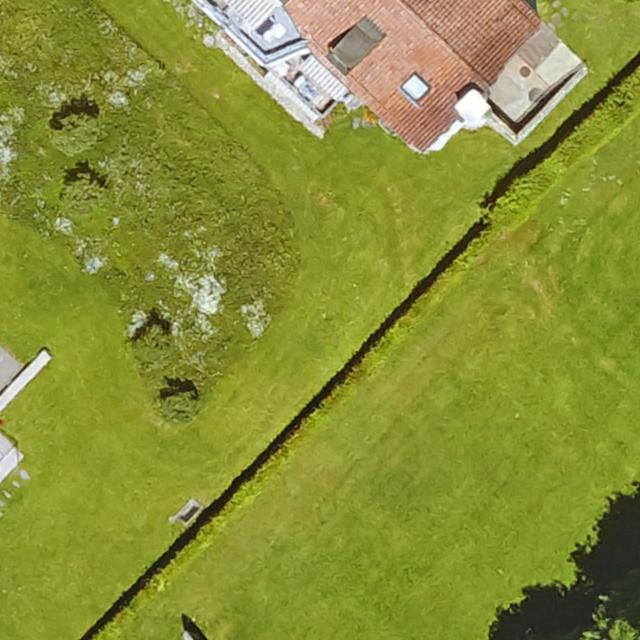tree: (591, 570, 640, 640), (59, 173, 113, 234), (55, 111, 102, 151), (156, 388, 199, 425), (135, 330, 175, 369)
